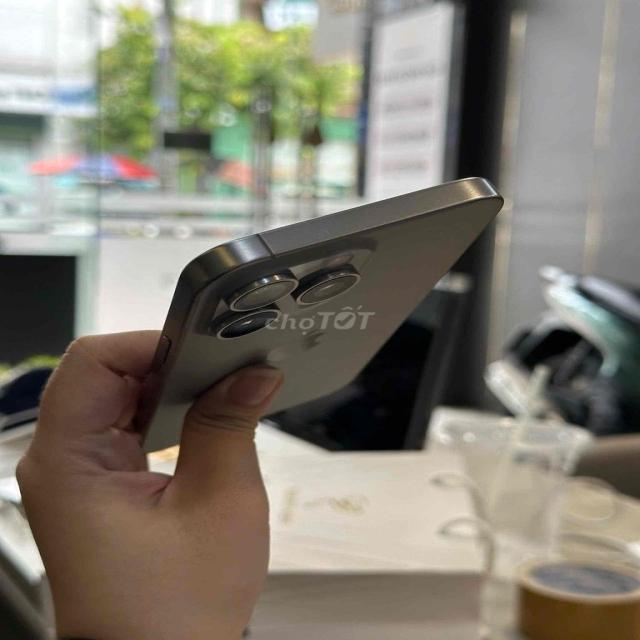gen_15: (140, 165, 505, 456)
